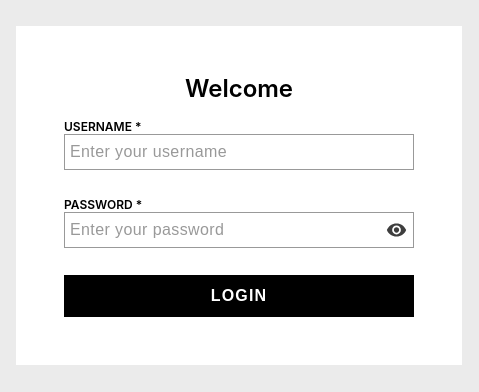
it: Login component › Login with errors
Expected: the heading "Welcome" is shown, top-left (185, 74), bottom-right (293, 102)
Click the button "Login": (239,296) top-left (64, 274), bottom-right (414, 316)
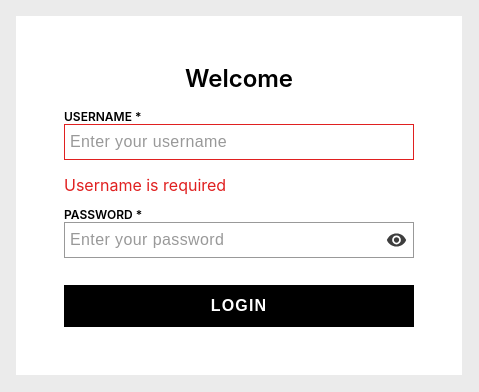
Expected: the text "Username is required" is shown, top-left (64, 174), bottom-right (226, 194)
